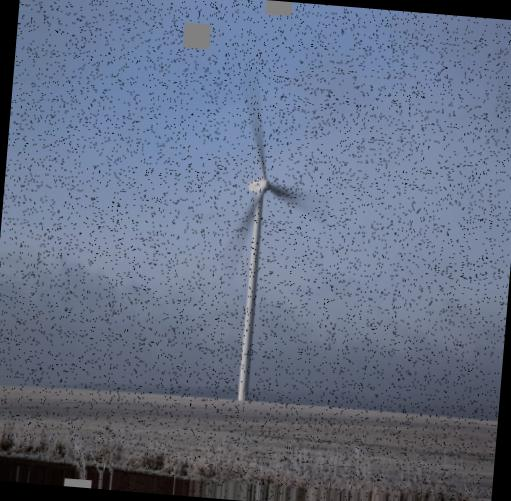wind turbine: (219, 107, 316, 395)
